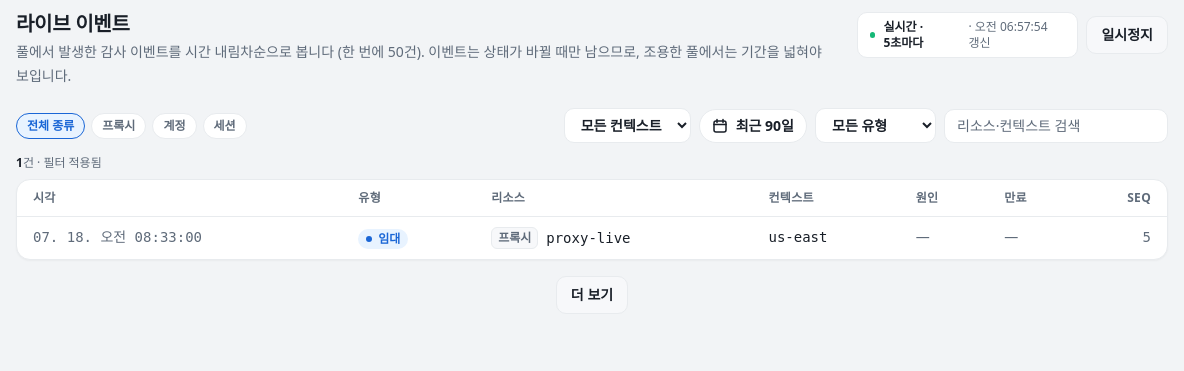
Test: 라이브 이벤트 화면 (integration + MSW) › '더 보기'로 과거를 이어 append 하고, 폴링을 멈추며 '라이브로'를 노출한다
This screenshot has width=1184, height=371.
Expected: the text "proxy-live" is shown, left=546, top=228, right=631, bottom=248
Expected: the text "acct-cool" is not shown
Click the button "더 보기" at (592, 295), box left=556, top=276, right=628, bottom=314
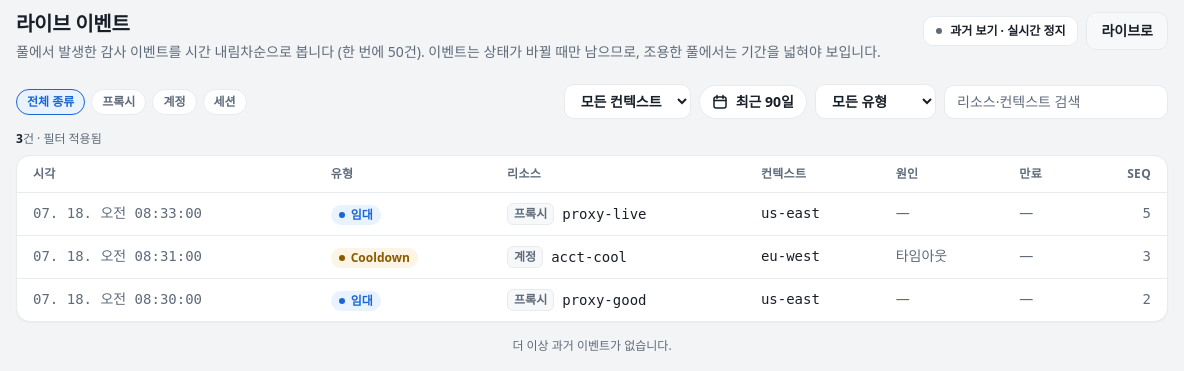
Result: the text "acct-cool" is shown at left=551, top=247, right=627, bottom=267
Result: the text "과거 보기 · 실시간 정지" is shown at left=950, top=23, right=1066, bottom=39
Result: the button "더 보기" is gone
